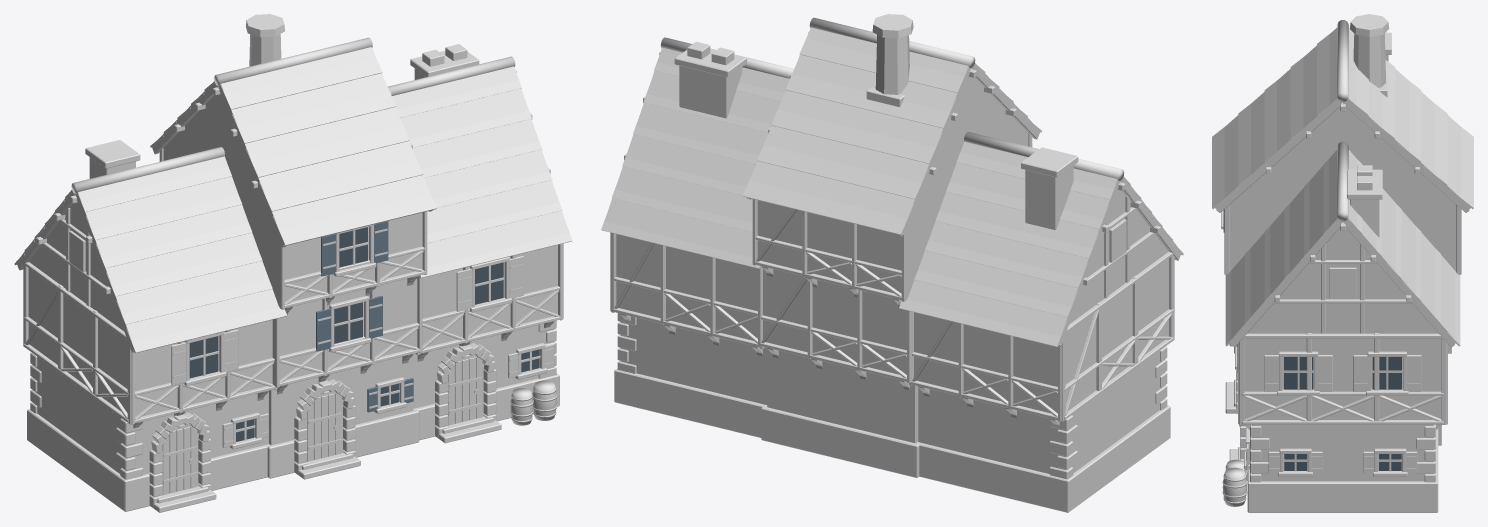
The model's file is col_19_trio_mitoyennes.fbx.
3 renders of one model, left to right at view 1: azimuth 30°, elevation 25°; view 2: azimuth 150°, elevation 25°; view 3: azimuth 270°, elevation 25°, orthographic. The views are drawn at different scales.
Visible parts, largest first — view 1: col_19_trio_mitoyennes_LOD0; view 2: col_19_trio_mitoyennes_LOD0; view 3: col_19_trio_mitoyennes_LOD0.
Boxes of the visible parts, <box> form: col_19_trio_mitoyennes_LOD0: <box>14,14,572,512</box>; col_19_trio_mitoyennes_LOD0: <box>601,14,1183,512</box>; col_19_trio_mitoyennes_LOD0: <box>1212,14,1473,512</box>.
Size of what is drawn, in the model's own units: 13.08 by 11.11 by 6.9.
